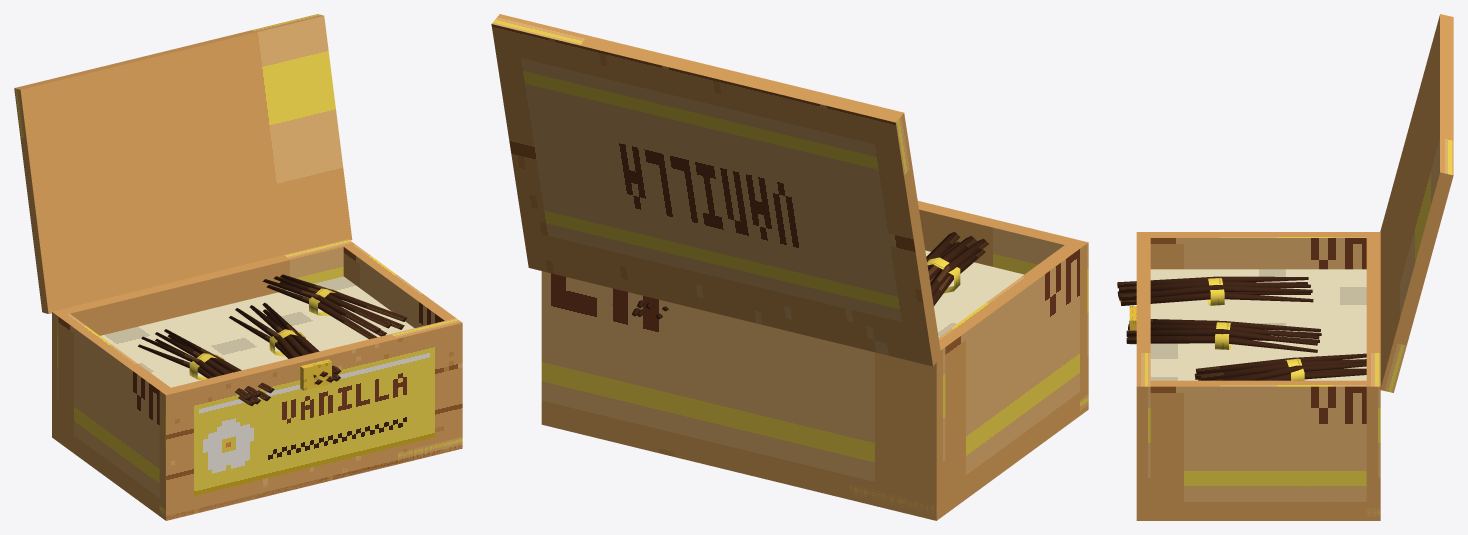
Rendered from Vanilla Bean Box.fbx.
3 renders of one model, left to right at view 1: azimuth 30°, elevation 25°; view 2: azimuth 150°, elevation 25°; view 3: azimuth 270°, elevation 25°, orthographic. The views are drawn at different scales.
Parts seen in each view (by area): view 1: Vanilla Bean Box lid, Vanilla Bean Box front, Vanilla Bean Box end -1, Vanilla Bean Box tissue, Vanilla Bean Box back, Vanilla Bean Box end 1, Vanilla Bean Box floor, Vanilla Bean Box pod 2.3, Vanilla Bean Box latch, Vanilla Bean Box pod 2.5, Vanilla Bean Box pod 2.4, Vanilla Bean Box pod 2.0 (+5 smaller); view 2: Vanilla Bean Box lid, Vanilla Bean Box back, Vanilla Bean Box end -1, Vanilla Bean Box front, Vanilla Bean Box floor, Vanilla Bean Box tissue, Vanilla Bean Box pod 0.3; view 3: Vanilla Bean Box end 1, Vanilla Bean Box lid, Vanilla Bean Box tissue, Vanilla Bean Box end -1, Vanilla Bean Box back, Vanilla Bean Box front, Vanilla Bean Box pod 1.5, Vanilla Bean Box pod 0.5, Vanilla Bean Box pod 1.2, Vanilla Bean Box pod 0.2, Vanilla Bean Box pod 2.3, Vanilla Bean Box pod 0.4 (+6 smaller).
Boxes of the visible parts, x1,y1,x2,y2 form: Vanilla Bean Box lid: (14,14,352,313); Vanilla Bean Box front: (159,318,462,520); Vanilla Bean Box end -1: (58,313,170,515); Vanilla Bean Box tissue: (100,276,414,387); Vanilla Bean Box back: (52,239,354,439); Vanilla Bean Box end 1: (343,244,455,327); Vanilla Bean Box floor: (52,428,462,520); Vanilla Bean Box pod 2.3: (262,279,380,332); Vanilla Bean Box latch: (300,359,331,390); Vanilla Bean Box pod 2.5: (280,274,406,321); Vanilla Bean Box pod 2.4: (274,276,391,328); Vanilla Bean Box pod 2.0: (266,285,377,339); Vanilla Bean Box lid: (491,14,941,366); Vanilla Bean Box back: (541,271,945,520); Vanilla Bean Box end -1: (938,245,1079,514); Vanilla Bean Box front: (917,201,1088,409); Vanilla Bean Box floor: (541,394,1088,520); Vanilla Bean Box tissue: (925,250,1023,336); Vanilla Bean Box pod 0.3: (930,238,988,295); Vanilla Bean Box end 1: (1150,380,1366,520); Vanilla Bean Box lid: (1380,14,1453,392); Vanilla Bean Box tissue: (1150,269,1366,380); Vanilla Bean Box end -1: (1150,232,1366,269); Vanilla Bean Box back: (1366,232,1380,520); Vanilla Bean Box front: (1136,232,1150,520); Vanilla Bean Box pod 1.5: (1126,329,1317,345); Vanilla Bean Box pod 0.5: (1121,285,1312,300); Vanilla Bean Box pod 1.2: (1126,336,1317,352); Vanilla Bean Box pod 0.2: (1120,292,1313,305); Vanilla Bean Box pod 2.3: (1196,353,1366,374); Vanilla Bean Box pod 0.4: (1119,281,1310,293).
Bounding box in the file's own units: 0.43 × 0.4436 × 0.3859.
Materials: 5 (5 with a texture image).
